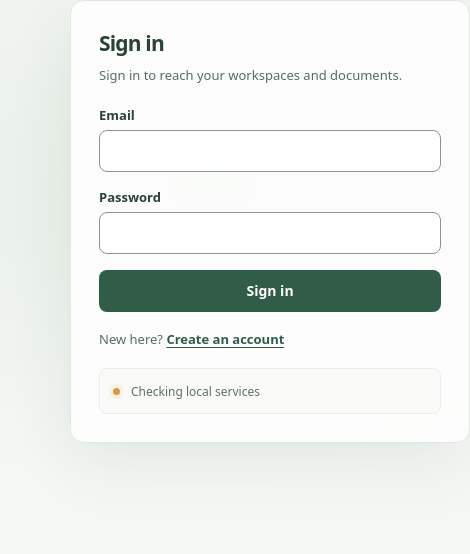
Test: AuthCard › clears the password and error when switching forms
The width and height of the screenshot is (470, 554).
Type "reader@example.com" into the field labelled "Email" at [270, 151], box [99,130,441,172]
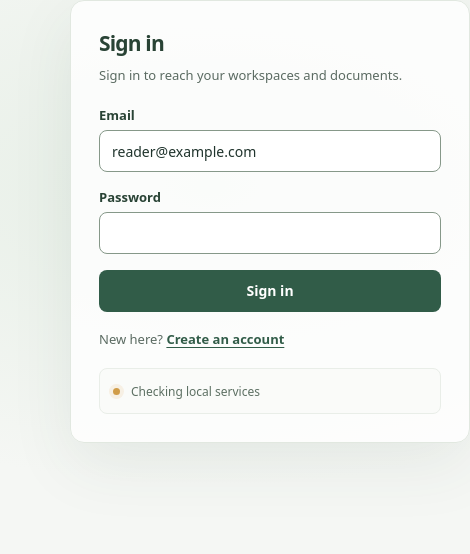
Type "correct horse battery" into the password field labelled "Password" at [270, 233], box [99,212,441,254]
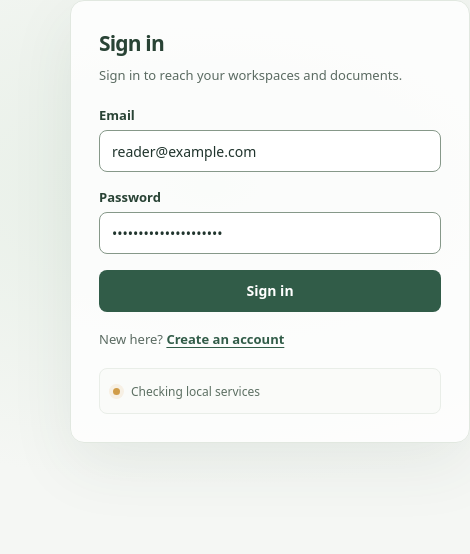
Click the button "Sign in" at [270, 291], box [99,270,441,312]
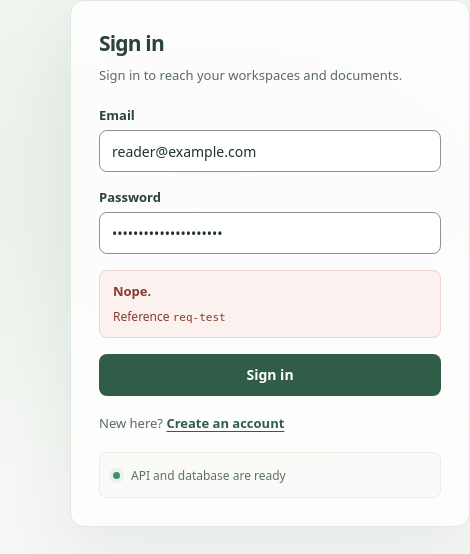
Expected: the message "Nope. Reference req-test" is shown, [99,270,441,338]
Click the button "Create an account" at [225, 423], box [166,414,284,432]
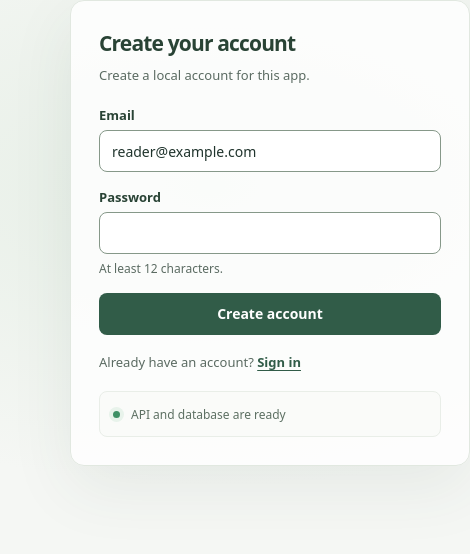
Expected: the message "Nope. Reference req-test" is gone
Expected: the password field labelled "Password" is empty, [99,212,441,254]
